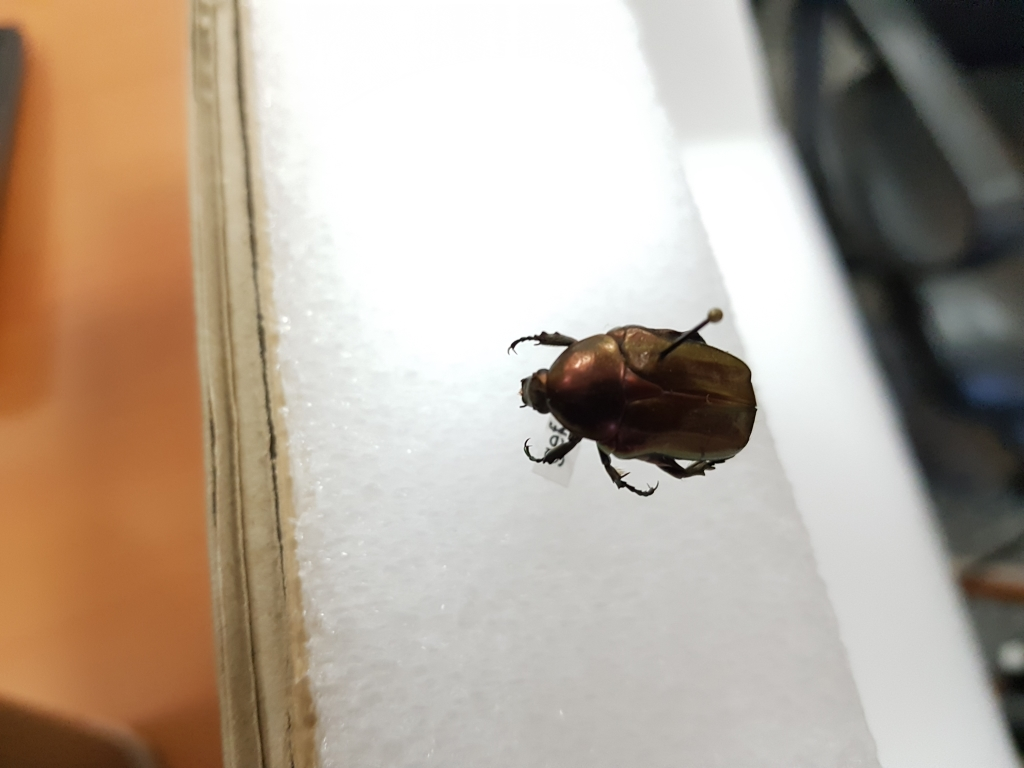Cetonia_aurata: (495, 318, 762, 504)
